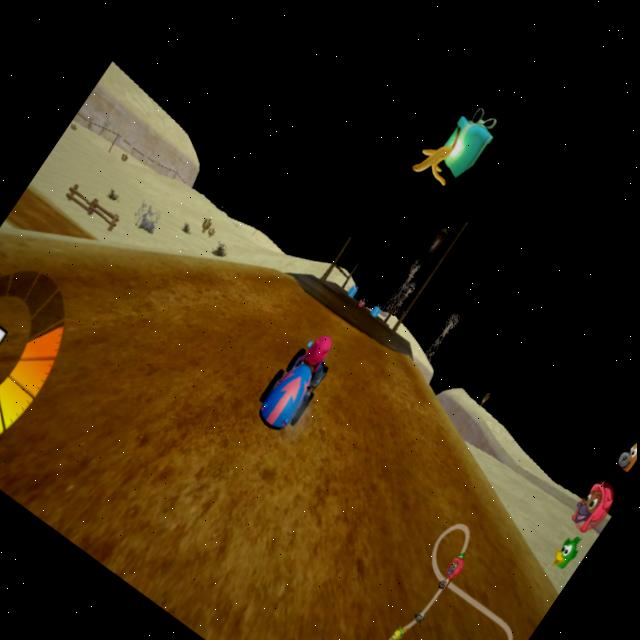bonus: (341, 272, 360, 292), (369, 293, 386, 311)
enemy_kart: (354, 285, 369, 302)
off_track: (64, 103, 252, 280)
player_kart: (248, 312, 343, 439)
track: (253, 348, 457, 576), (281, 258, 410, 373)
